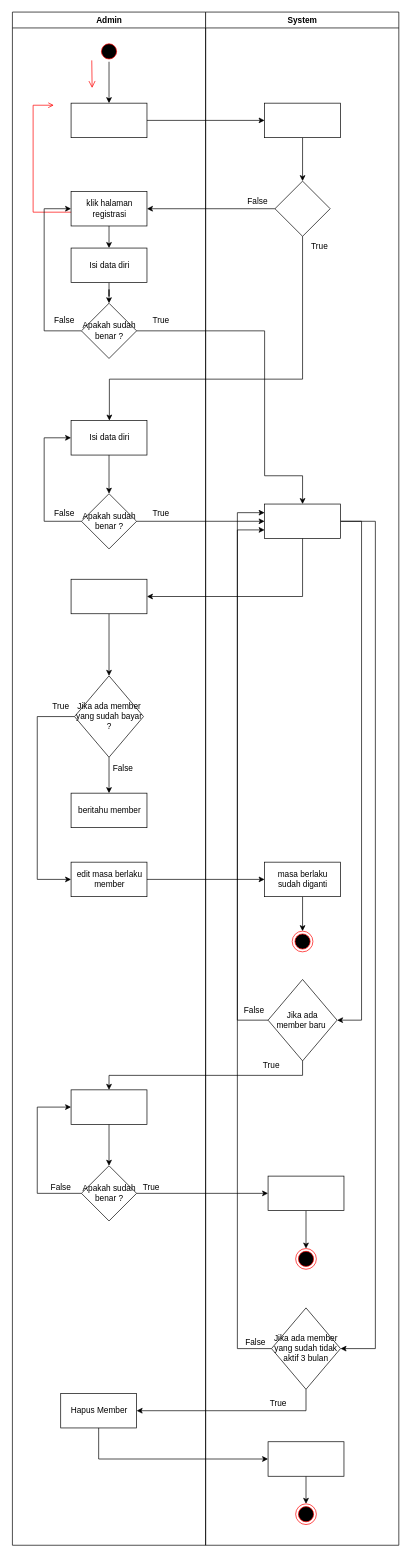
Some shapes in this 411 by 1557 pixel diagram are drawn without their labels. The centre of each missing label's shape, as x and y in pixels:
Buka Halaman Web/Aplikasi: pixel 108 120
data sudah ditambahkan: pixel 305 1193
Isi data member ke dalam daftar: pixel 108 1106
Jika punya akun ?: pixel 302 208
Melihat Data Member: pixel 108 596
member sudah dihapus: pixel 305 1458
Tampilan Awal Terbuka: pixel 302 521
Tampilan Login Terbuka: pixel 302 120
